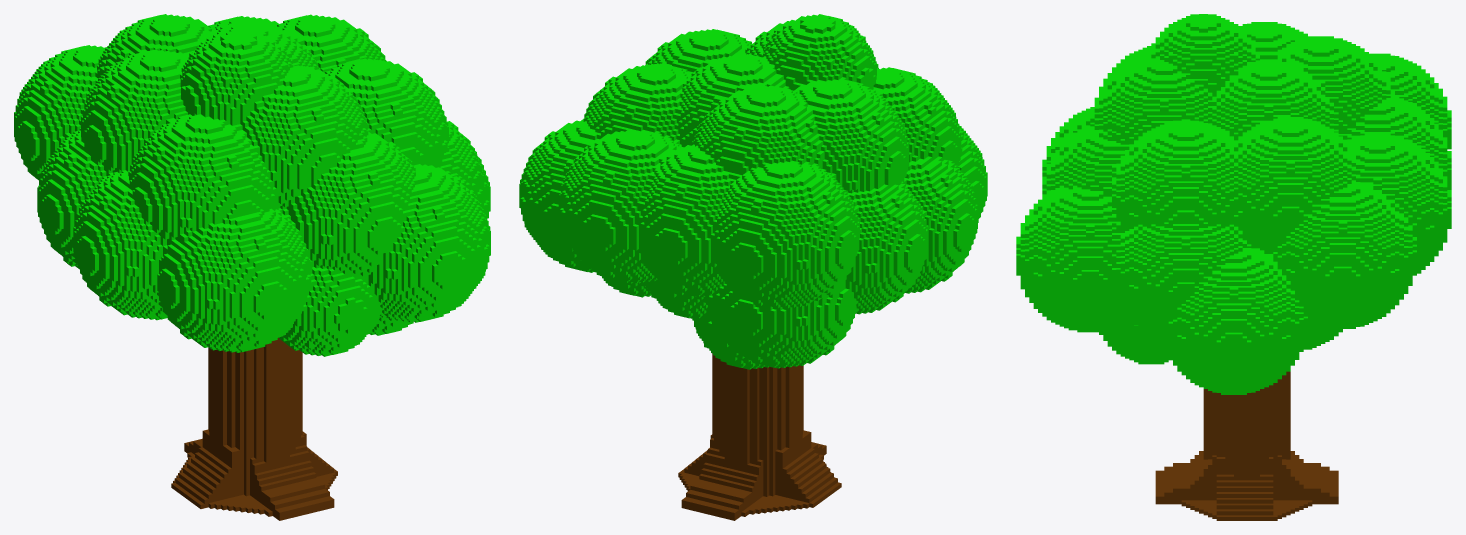
File: Arvore.obj
3 views of the same model, side by side, from view 1: azimuth 30°, elevation 25°; view 2: azimuth 150°, elevation 25°; view 3: azimuth 270°, elevation 25° (orthographic). The views are drawn at different scales.
Bounding box in the file's own units: 10.4 × 11.4 × 10.
Materials: 1 (1 with a texture image).
